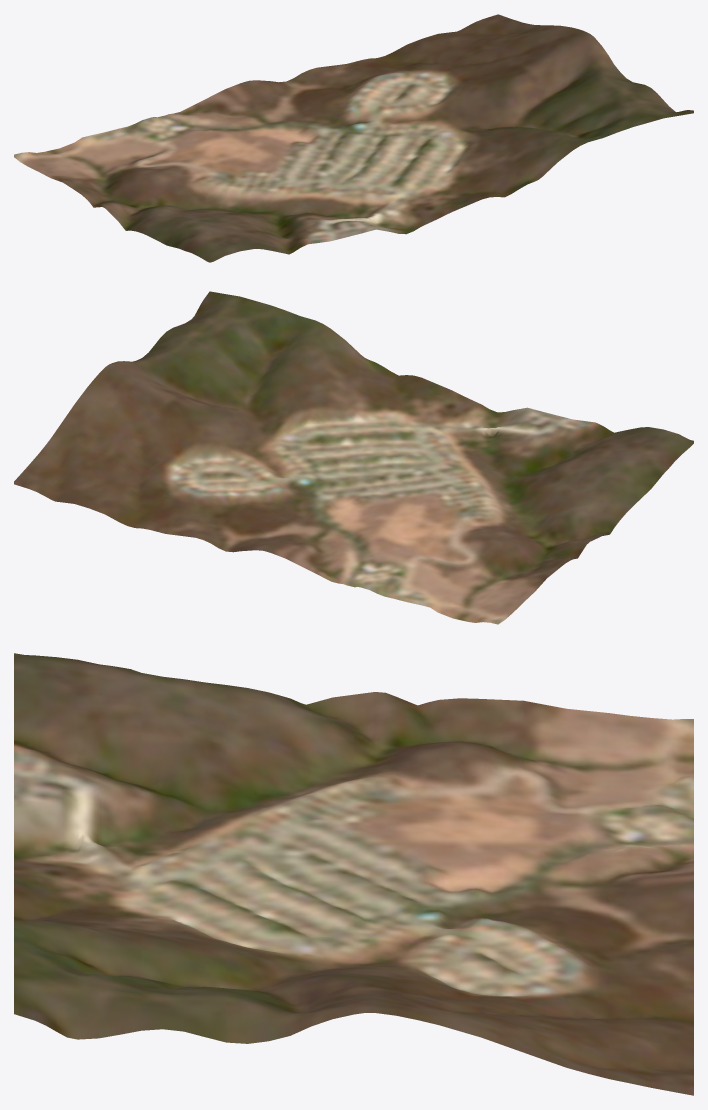
File: terrain_r7_c5_lod1.glb
3 views of the same model, one above another, from view 1: azimuth 30°, elevation 25°; view 2: azimuth 150°, elevation 25°; view 3: azimuth 270°, elevation 25° (orthographic). The views are drawn at different scales.
Parts seen in each view (by area): view 1: terrain_r7_c5_lod1; view 2: terrain_r7_c5_lod1; view 3: terrain_r7_c5_lod1.
Part boxes in pixels (<box>): terrain_r7_c5_lod1: <box>14,14,693,262</box>; terrain_r7_c5_lod1: <box>14,291,693,624</box>; terrain_r7_c5_lod1: <box>14,653,693,1095</box>.
Bounding box in the file's own units: 1125 × 175 × 787.
1 material, 1 textured.
